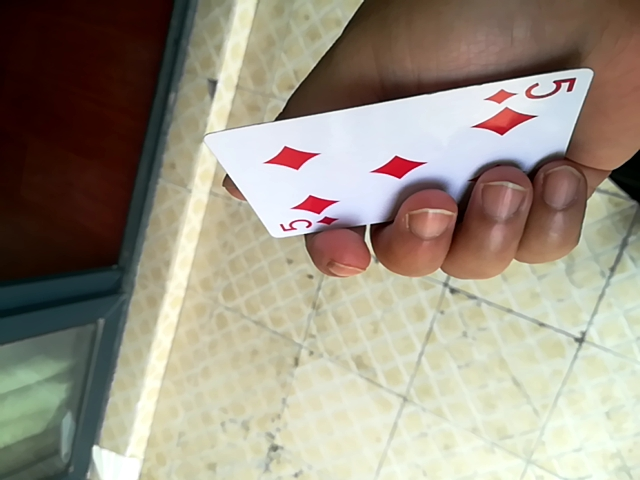fk 5: (197, 70, 600, 244)
